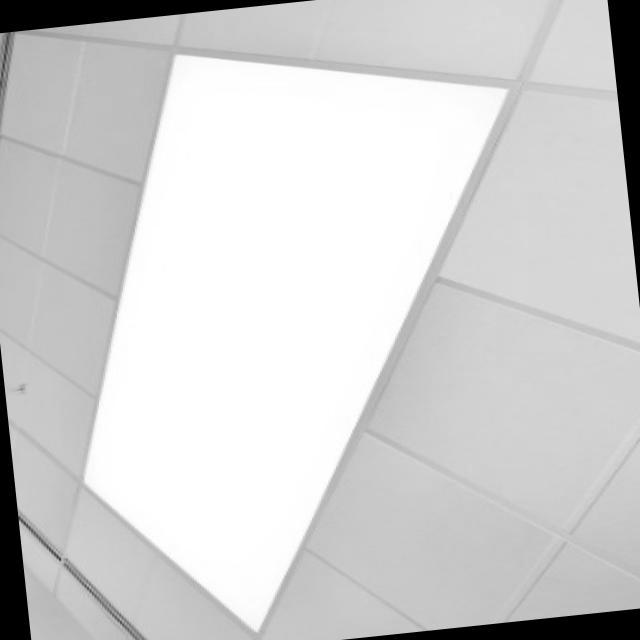light: (81, 48, 518, 633)
